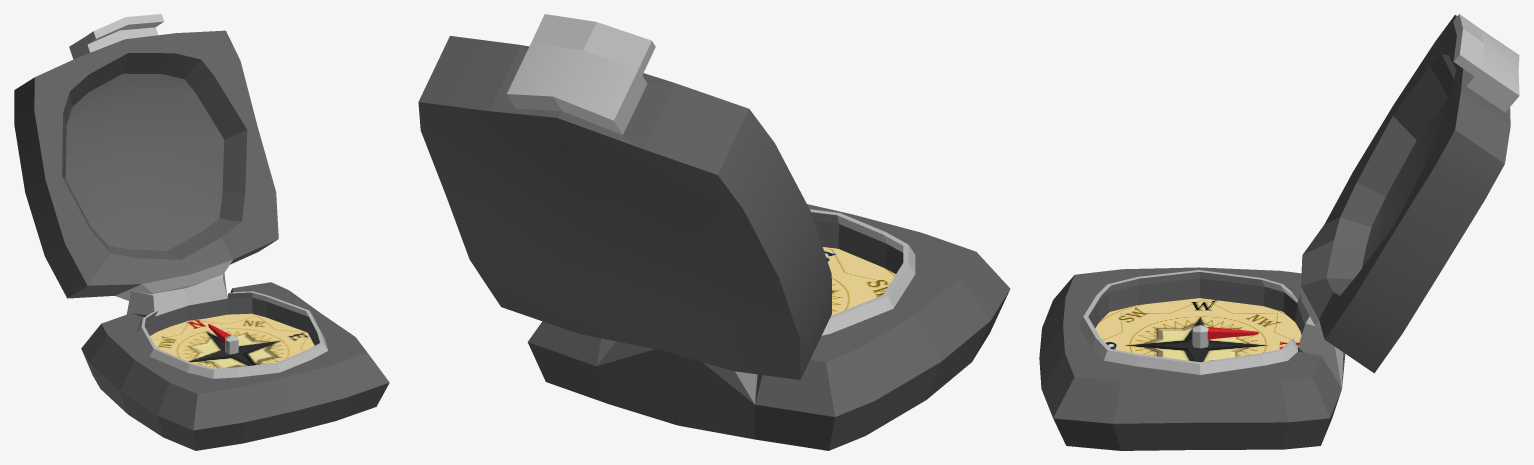
Rendered from brujula_low.fbx.
3 renders of one model, left to right at view 1: azimuth 30°, elevation 25°; view 2: azimuth 150°, elevation 25°; view 3: azimuth 270°, elevation 25°, orthographic. The views are drawn at different scales.
Visible parts, largest first — view 1: Tapa, Base, Coordenadas; view 2: Tapa, Base, Coordenadas; view 3: Base, Tapa, Coordenadas.
Part boxes in pixels (x1,y1,x2,y2): Tapa: (14,14,278,300); Base: (81,273,389,450); Coordenadas: (150,313,314,368); Tapa: (418,14,831,379); Base: (527,204,1010,450); Coordenadas: (823,247,895,315); Base: (1039,267,1345,450); Tapa: (1301,14,1519,373); Coordenadas: (1095,298,1301,362).
Size of the model in its own units: 24.22 by 31.43 by 37.05.
Materials: 3 (3 with a texture image).
